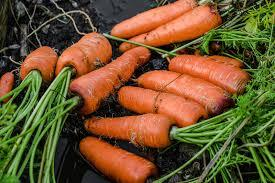Organic: (1, 1, 275, 183)
